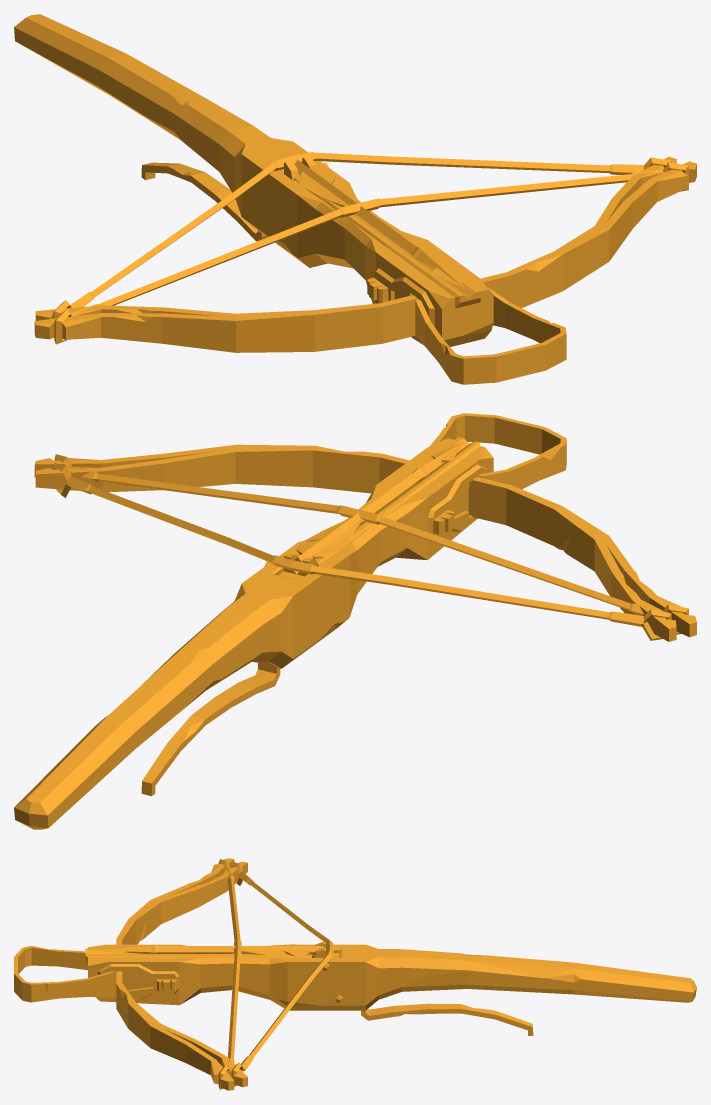
The model's file is SM_Crossbow_Fantasy.fbx.
The picture shows the model from 3 angles, top to bottom: view 1: azimuth 30°, elevation 25°; view 2: azimuth 150°, elevation 25°; view 3: azimuth 270°, elevation 25°; orthographic projection. The views are drawn at different scales.
Parts seen in each view (by area): view 1: crossbow-base-fantasy, crossbow-idle-fantasy, crossbow-loaded-fantasy, crossbow-arrow-fantasy, crossbow-trigger-fantasy; view 2: crossbow-base-fantasy, crossbow-loaded-fantasy, crossbow-idle-fantasy, crossbow-trigger-fantasy, crossbow-arrow-fantasy; view 3: crossbow-base-fantasy, crossbow-loaded-fantasy, crossbow-idle-fantasy, crossbow-arrow-fantasy, crossbow-trigger-fantasy.
Boxes of the visible parts, x1,y1,x2,y2 form: crossbow-base-fantasy: (14, 14, 566, 384); crossbow-idle-fantasy: (34, 161, 696, 352); crossbow-loaded-fantasy: (35, 152, 676, 320); crossbow-arrow-fantasy: (294, 160, 464, 287); crossbow-trigger-fantasy: (141, 162, 267, 241); crossbow-base-fantasy: (14, 413, 566, 829); crossbow-loaded-fantasy: (35, 446, 676, 641); crossbow-idle-fantasy: (34, 444, 696, 637); crossbow-trigger-fantasy: (141, 661, 280, 796); crossbow-arrow-fantasy: (294, 441, 464, 561); crossbow-base-fantasy: (14, 944, 696, 1010); crossbow-loaded-fantasy: (116, 861, 333, 1087); crossbow-idle-fantasy: (116, 858, 241, 1090); crossbow-arrow-fantasy: (93, 944, 323, 956); crossbow-trigger-fantasy: (361, 1003, 533, 1035).
Bounding box in the file's own units: 0.6743 × 0.1261 × 0.8699.
